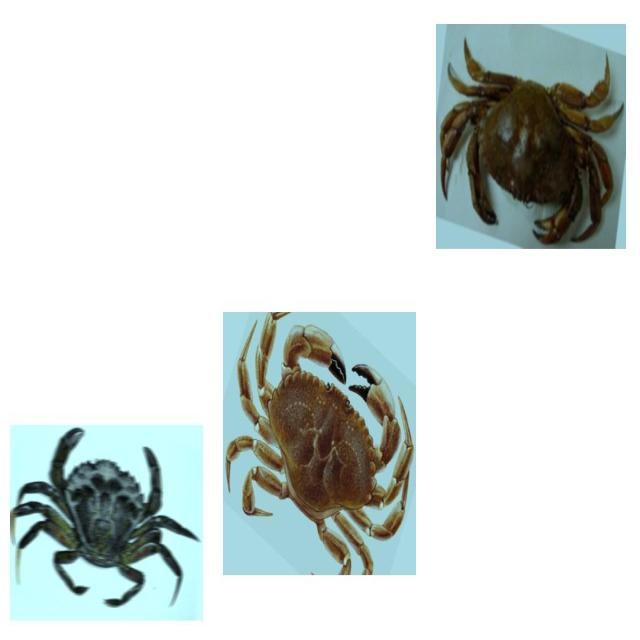egc: (9, 423, 200, 609)
